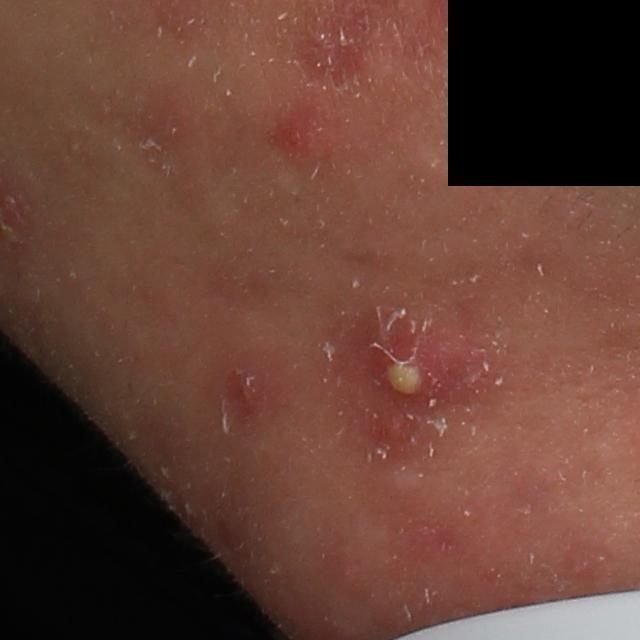hypertrophic_scar: (370, 466, 428, 502)
papule: (273, 111, 326, 161), (228, 358, 275, 410)
pustule: (360, 318, 467, 415)
